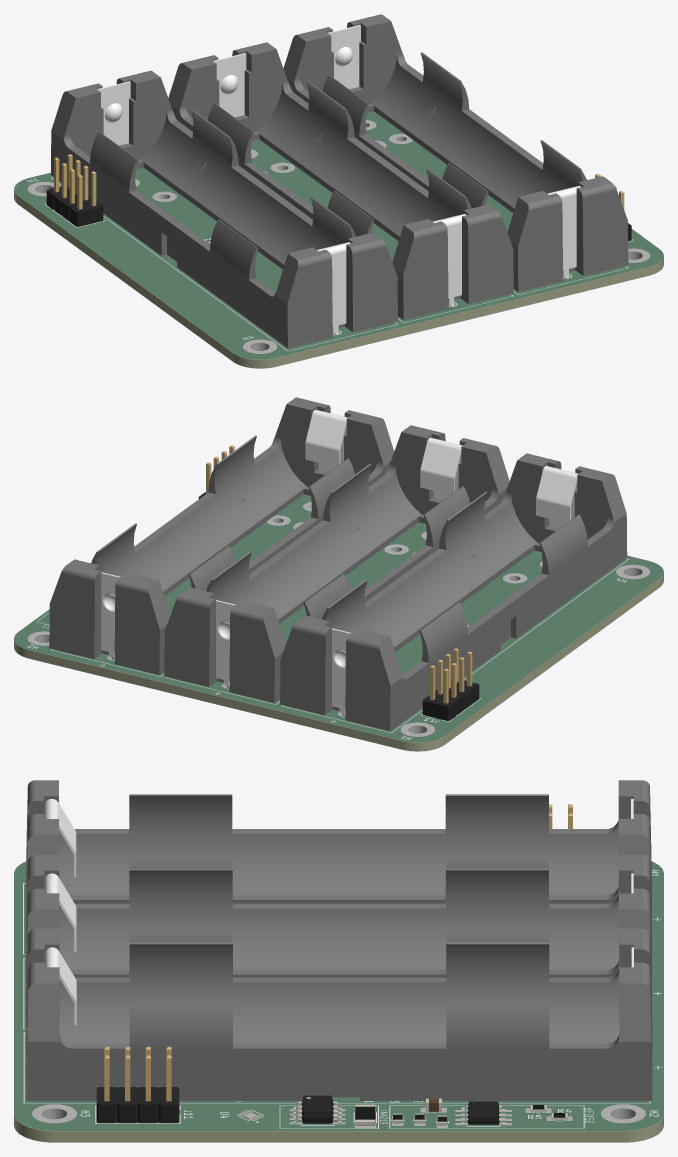
The model's file is board.glb.
The picture shows the model from 3 angles, top to bottom: view 1: azimuth 30°, elevation 25°; view 2: azimuth 150°, elevation 25°; view 3: azimuth 270°, elevation 25°; orthographic projection. The views are drawn at different scales.
Visible parts, largest first — view 1: =>[0:1:1:7] (×3), =>[0:1:1:21], =>[0:1:1:19], =>[0:1:1:11], =>[0:1:1:16], =>[0:1:1:17], =>[0:1:1:20]; view 2: =>[0:1:1:7] (×3), =>[0:1:1:21], =>[0:1:1:19], =>[0:1:1:11], =>[0:1:1:16], =>[0:1:1:17], =>[0:1:1:20]; view 3: =>[0:1:1:7] (×3), =>[0:1:1:21], =>[0:1:1:19], =>[0:1:1:11], =>[0:1:1:16], =>[0:1:1:17], =>[0:1:1:3], =>[0:1:1:5], =>[0:1:1:20].
Part boxes in pixels (x1,y1,x2,y2): =>[0:1:1:7] (×3): (51, 14, 628, 348); =>[0:1:1:21]: (14, 112, 663, 368); =>[0:1:1:19]: (14, 111, 663, 359); =>[0:1:1:11]: (46, 154, 103, 226); =>[0:1:1:16]: (27, 120, 650, 353); =>[0:1:1:17]: (27, 177, 633, 351); =>[0:1:1:20]: (14, 200, 663, 368); =>[0:1:1:7] (×3): (49, 397, 627, 730); =>[0:1:1:21]: (14, 495, 663, 751); =>[0:1:1:19]: (14, 494, 663, 742); =>[0:1:1:11]: (422, 648, 479, 720); =>[0:1:1:16]: (27, 502, 650, 736); =>[0:1:1:17]: (27, 558, 628, 740); =>[0:1:1:20]: (14, 583, 663, 751); =>[0:1:1:7] (×3): (26, 780, 652, 1100); =>[0:1:1:21]: (14, 862, 663, 1142); =>[0:1:1:19]: (14, 861, 663, 1130); =>[0:1:1:11]: (96, 1046, 179, 1123); =>[0:1:1:16]: (32, 1104, 645, 1128); =>[0:1:1:17]: (23, 870, 662, 1128); =>[0:1:1:3]: (293, 1095, 341, 1123); =>[0:1:1:5]: (461, 1101, 505, 1124); =>[0:1:1:20]: (14, 1126, 663, 1142).
Size of the model in its own units: 0.08 by 0.0185 by 0.08.
